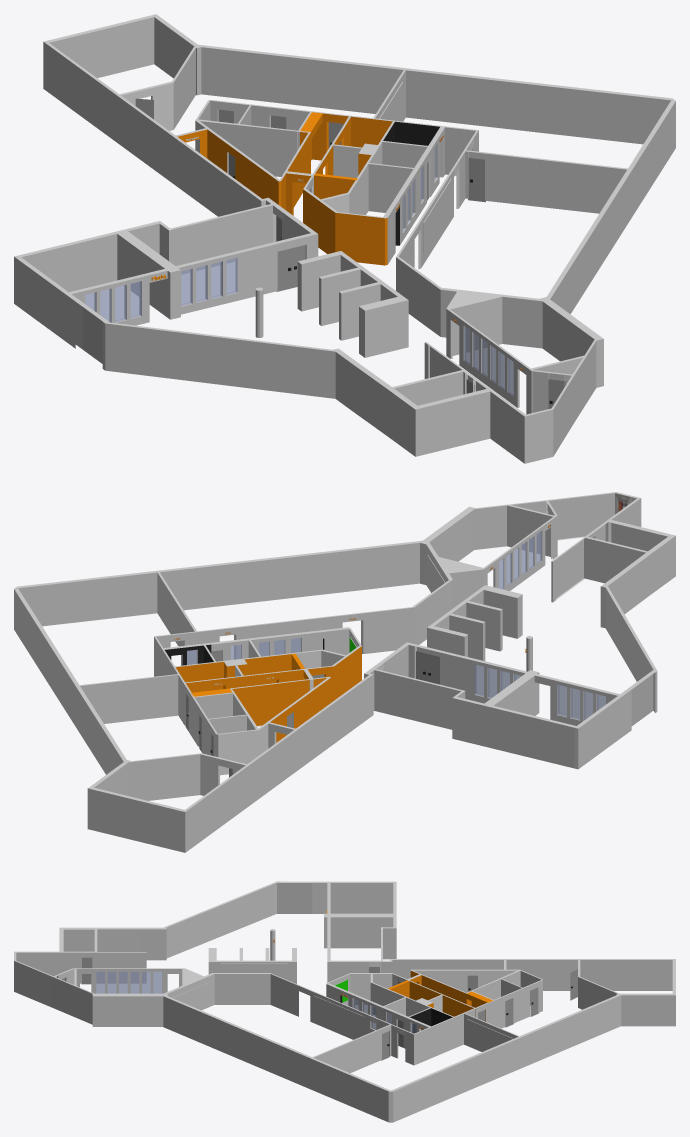
The model's file is 5thwalls.gltf.
The picture shows the model from 3 angles, top to bottom: view 1: azimuth 30°, elevation 25°; view 2: azimuth 150°, elevation 25°; view 3: azimuth 270°, elevation 25°; orthographic projection. The views are drawn at different scales.
Parts seen in each view (by area): view 1: Wall, Windows, Doors; view 2: Wall, Windows, Doors; view 3: Wall, Doors, Windows.
Boxes of the visible parts, x1,y1,x2,y2 form: Wall: (14,14,675,463); Windows: (85,145,513,396); Doors: (135,98,565,408); Wall: (14,492,675,852); Windows: (187,531,605,720); Doors: (185,513,595,777); Wall: (14,881,675,1122); Doors: (61,957,577,1060); Windows: (96,971,416,1033).
Size of the model in its own units: 43.61 by 3.12 by 58.09.
